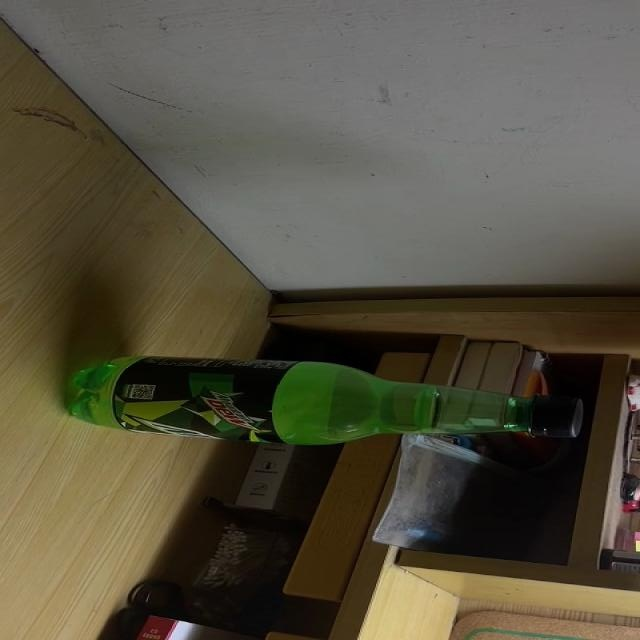Mountain-Dew: (65, 357, 585, 446)
